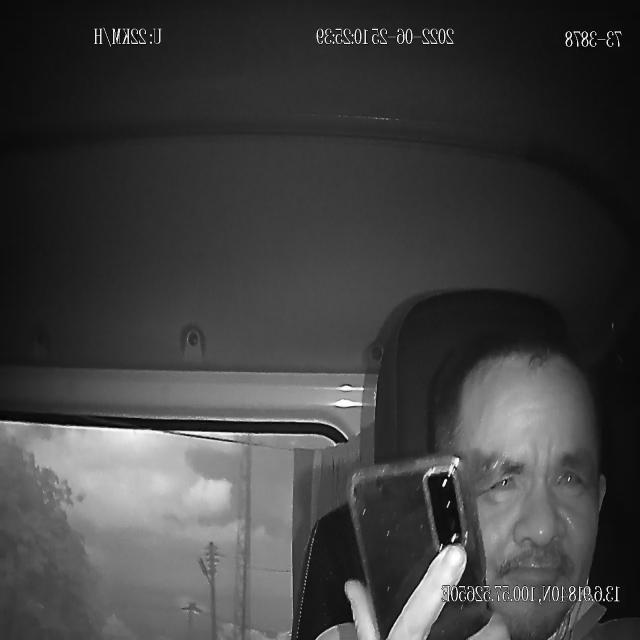phone: (346, 452, 491, 640)
